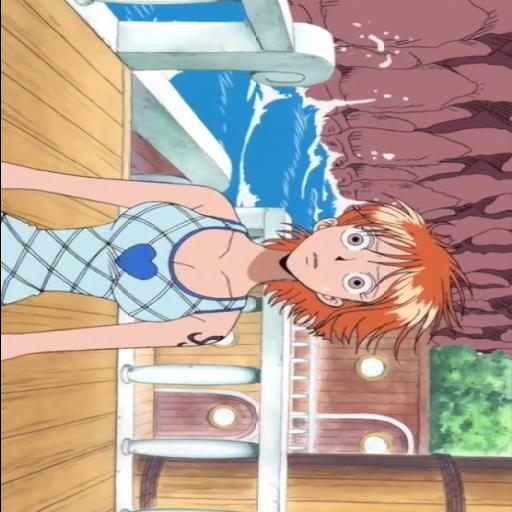Nami: (0, 174, 447, 363)
